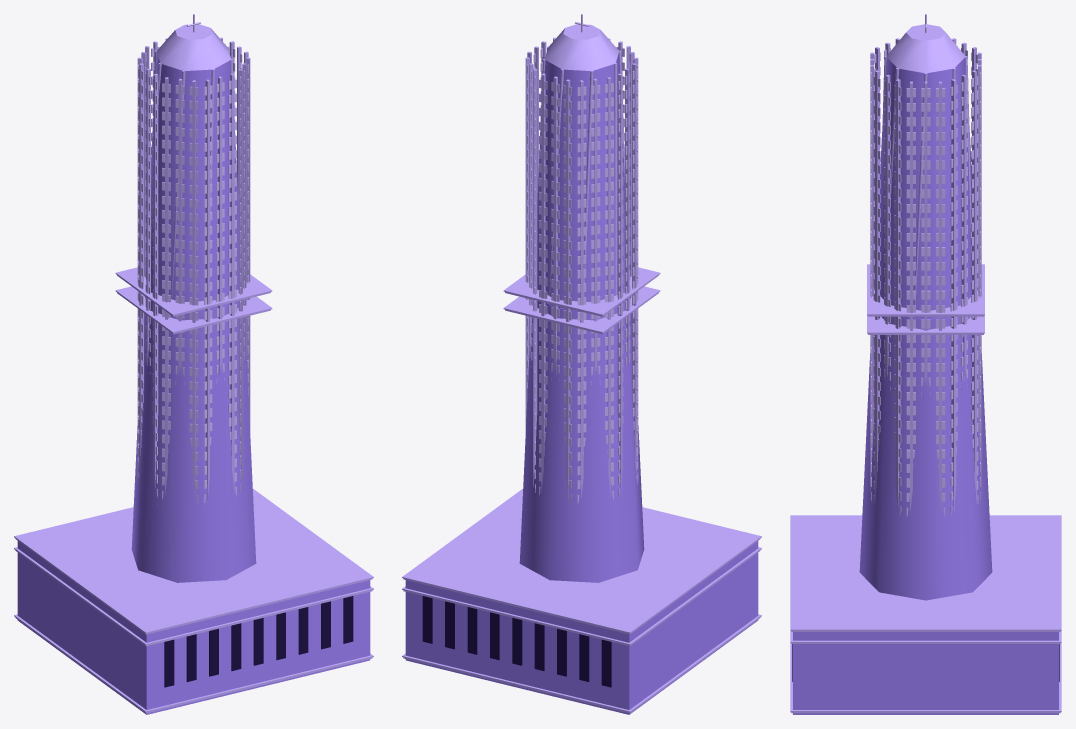
Rendered from joseph_violet_light.glb.
The picture shows the model from 3 angles, left to right: view 1: azimuth 30°, elevation 25°; view 2: azimuth 150°, elevation 25°; view 3: azimuth 270°, elevation 25°; orthographic projection. The views are drawn at different scales.
Parts seen in each view (by area): view 1: Violet stone, Lavender carved stone, Pale violet trim, Recessed glazing; view 2: Violet stone, Lavender carved stone, Pale violet trim, Recessed glazing; view 3: Violet stone, Lavender carved stone, Pale violet trim.
Boxes of the visible parts, <box> form: Violet stone: <box>17,52,370,714</box>; Lavender carved stone: <box>14,24,373,713</box>; Pale violet trim: <box>137,14,248,509</box>; Recessed glazing: <box>164,596,353,687</box>; Violet stone: <box>405,52,758,714</box>; Lavender carved stone: <box>402,24,761,713</box>; Pale violet trim: <box>527,14,638,509</box>; Recessed glazing: <box>422,596,611,687</box>; Violet stone: <box>793,57,1058,714</box>; Lavender carved stone: <box>790,24,1061,713</box>; Pale violet trim: <box>871,14,980,522</box>.
Size of the model in its own units: 40.8 by 107 by 40.8.
